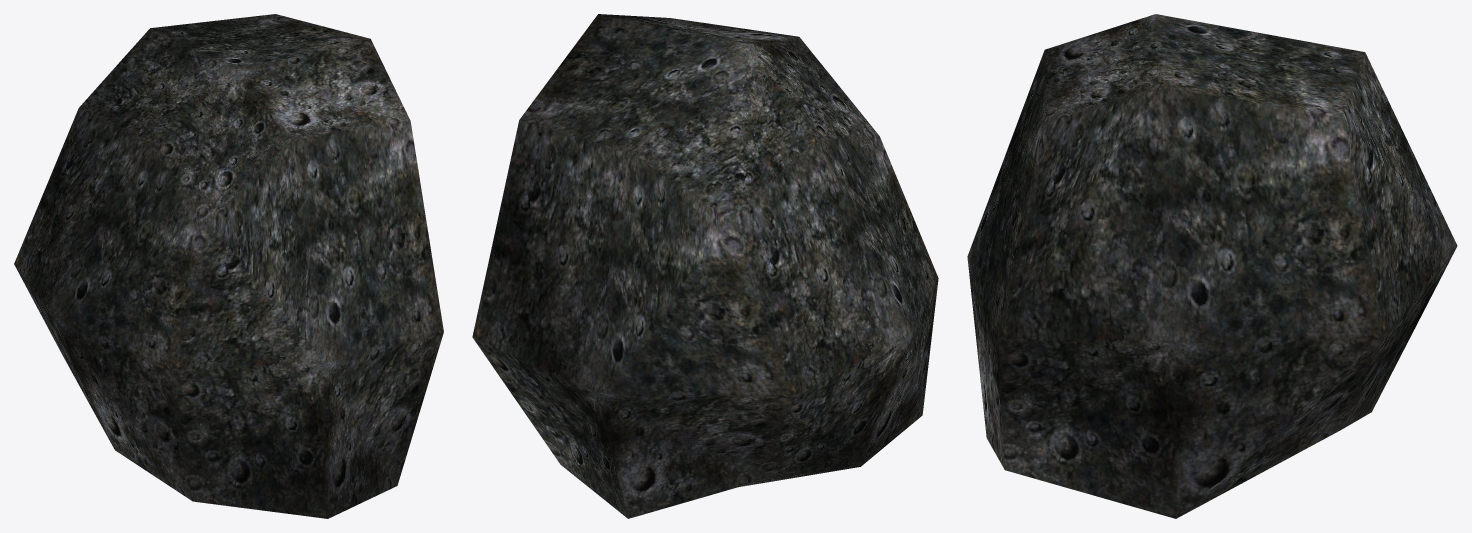
The model's file is asteroid_iron_small_s02_l2.fbx.
3 renders of one model, left to right at view 1: azimuth 30°, elevation 25°; view 2: azimuth 150°, elevation 25°; view 3: azimuth 270°, elevation 25°, orthographic. The views are drawn at different scales.
Visible parts, largest first — view 1: mesh_node; view 2: mesh_node; view 3: mesh_node.
Part boxes in pixels (bbox=[...]): mesh_node: bbox=[14, 14, 443, 518]; mesh_node: bbox=[472, 14, 938, 518]; mesh_node: bbox=[967, 14, 1457, 518].
Size of the model in its own units: 17.35 by 20.76 by 20.49.
